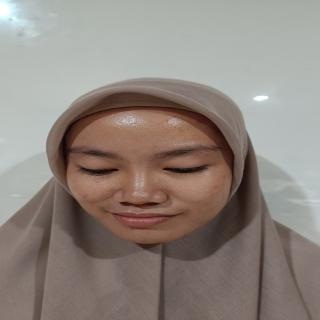Sedih: (55, 103, 240, 247)
